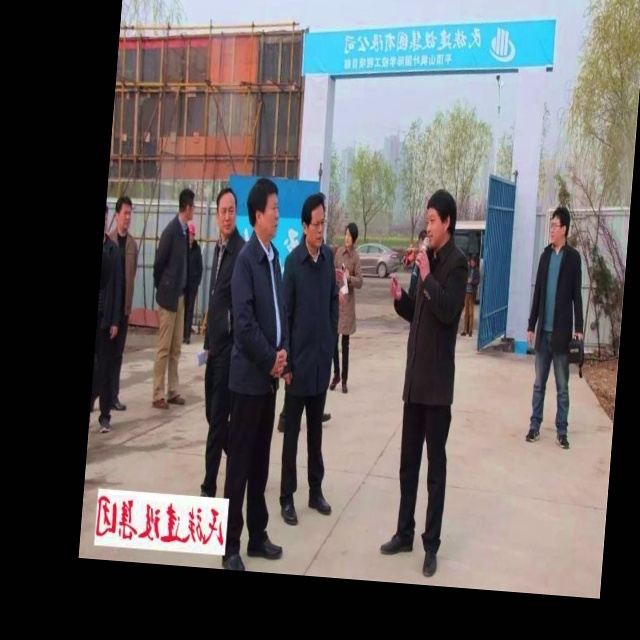Sin_Casco_Mascarrilla: (424, 187, 459, 252), (247, 177, 282, 238), (299, 190, 329, 250), (212, 187, 240, 239)
